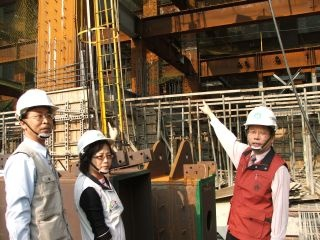white: (11, 86, 60, 141), (76, 129, 114, 175), (242, 106, 279, 151)
